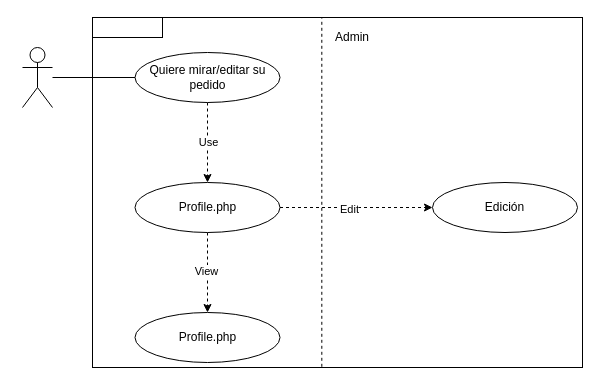
Image size: 600x386. Some labels were removed from this diagram. Here are the shapes that lost their labels. From the top down, the centre of each, then its label:
(127,27): Camisaedit
(37,77): Usuario
